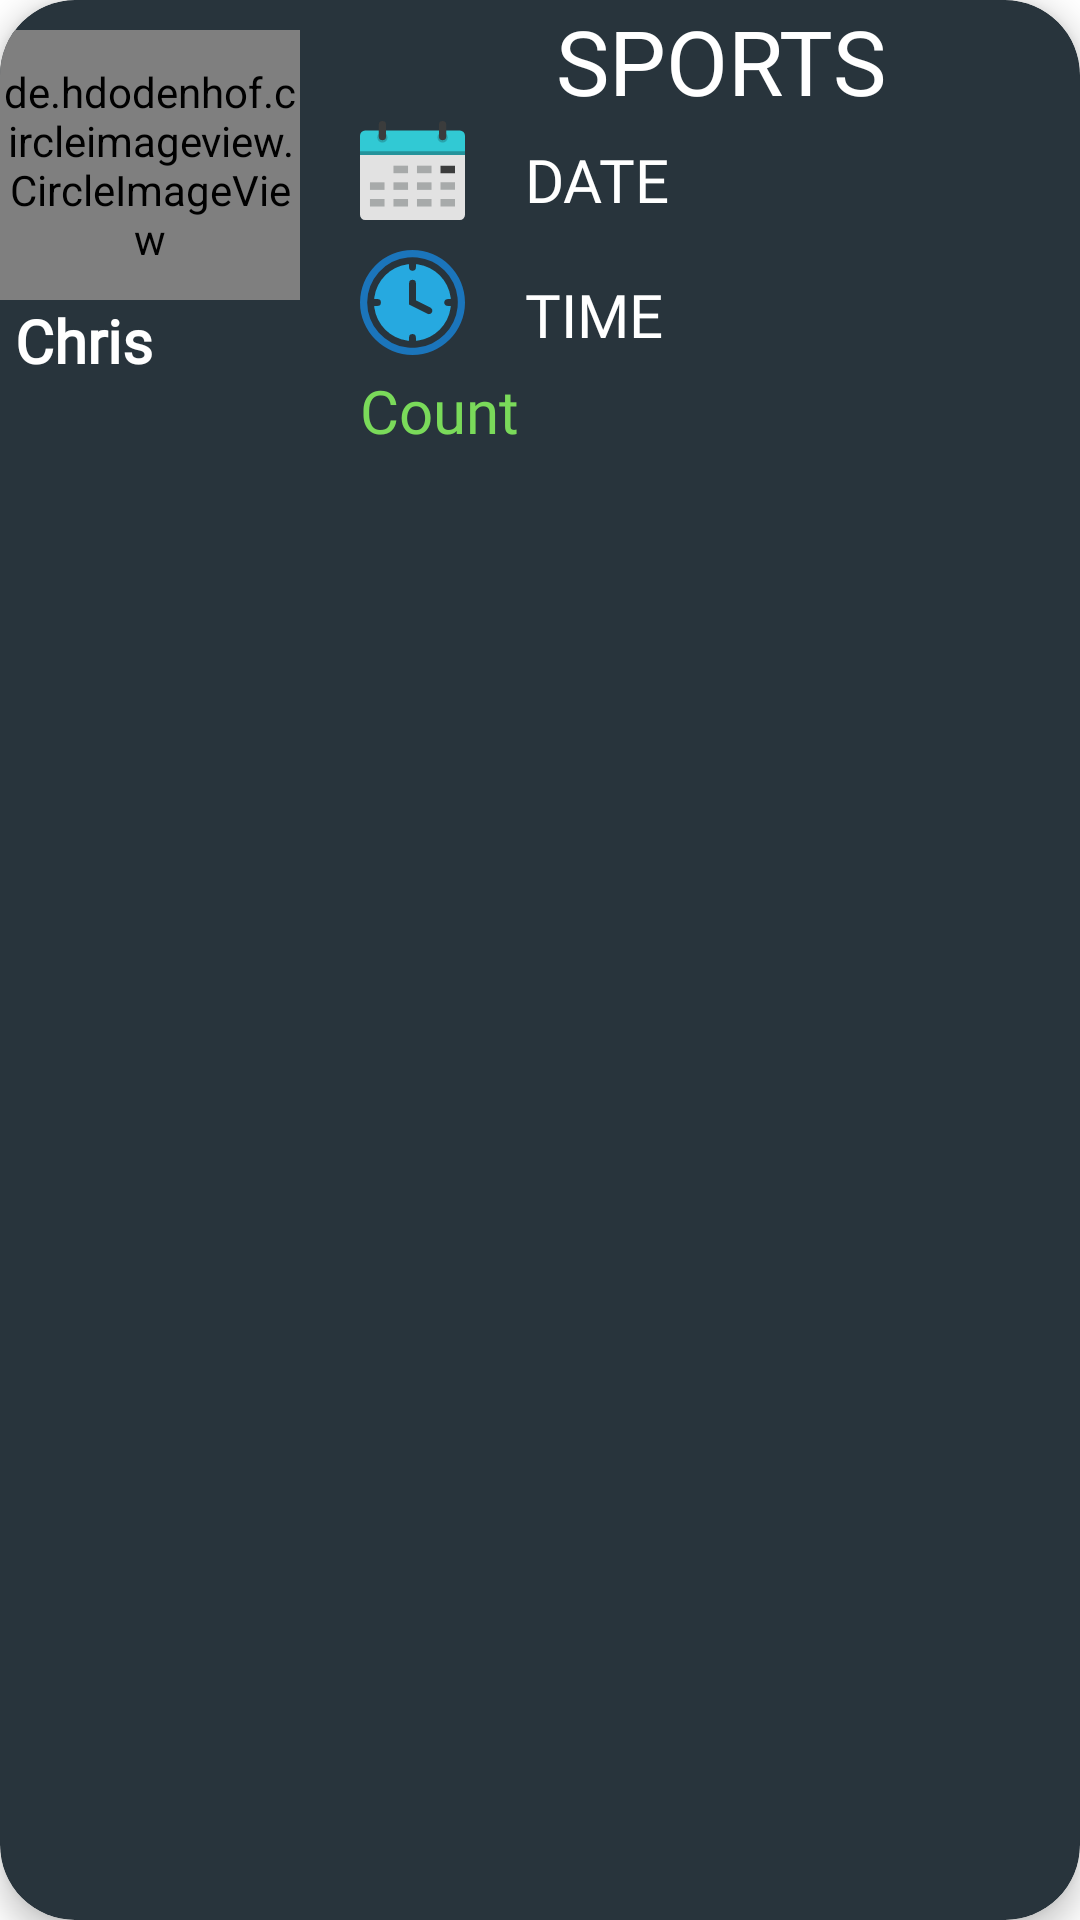

Screen size 1080x1920. Icon name, then its box in pixels as (x1, y1, x2, y2):
calendar: (360, 130, 465, 220)
clock: (360, 250, 465, 355)
